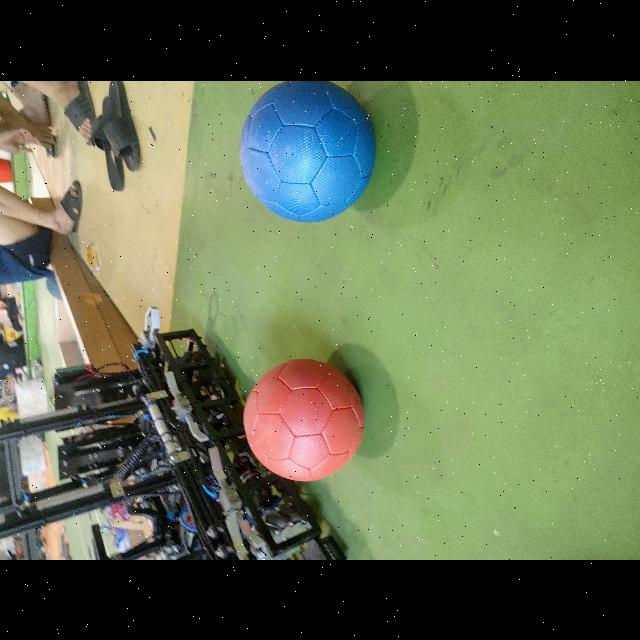B: (240, 80, 375, 221)
R: (243, 358, 365, 481)
